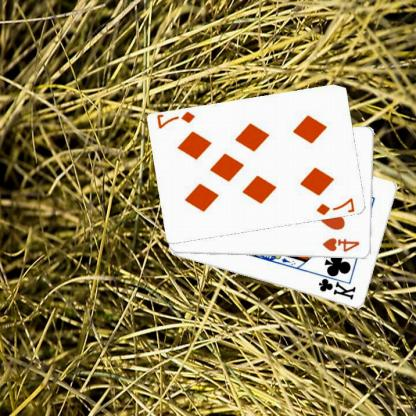4H: (322, 235, 362, 254)
7D: (315, 196, 358, 216), (157, 110, 198, 130)
KC: (317, 271, 359, 301)
